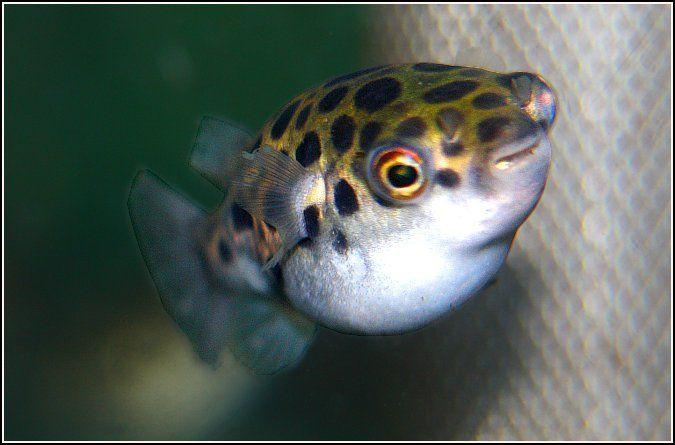Green Spotted Puffer: (126, 57, 565, 387)
